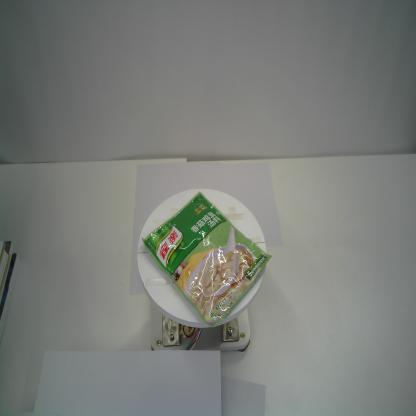Seasoner: (141, 191, 272, 328)
